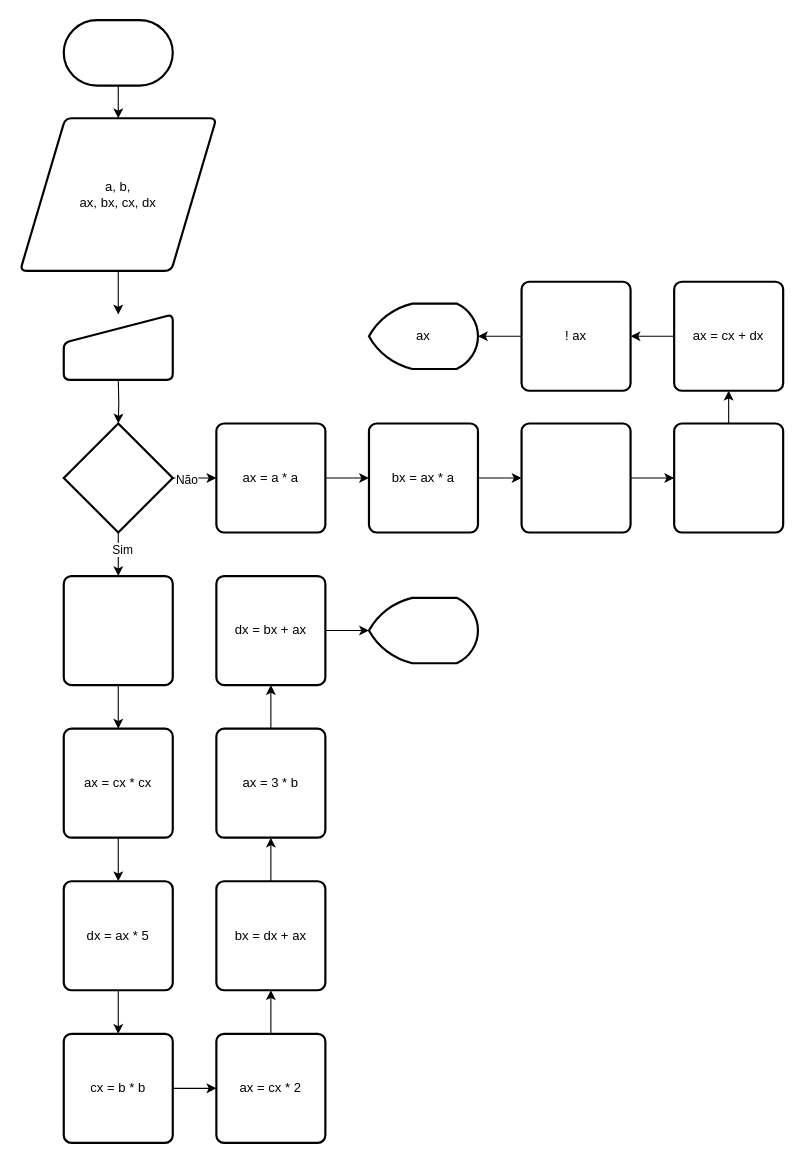
Image size: 802x1162. Some labels were removed from this diagram. Here are the shapes that lost their labels. From the top down, the centre of each, then its label:
At (x=117, y=52): "Start".
At (x=117, y=346): "a, b,".
At (x=117, y=477): "a < b".
At (x=575, y=477): "cx = bx / b".
At (x=728, y=477): "dx = 5 * b".
At (x=117, y=630): "cx = a * a".
At (x=423, y=630): "dx".
